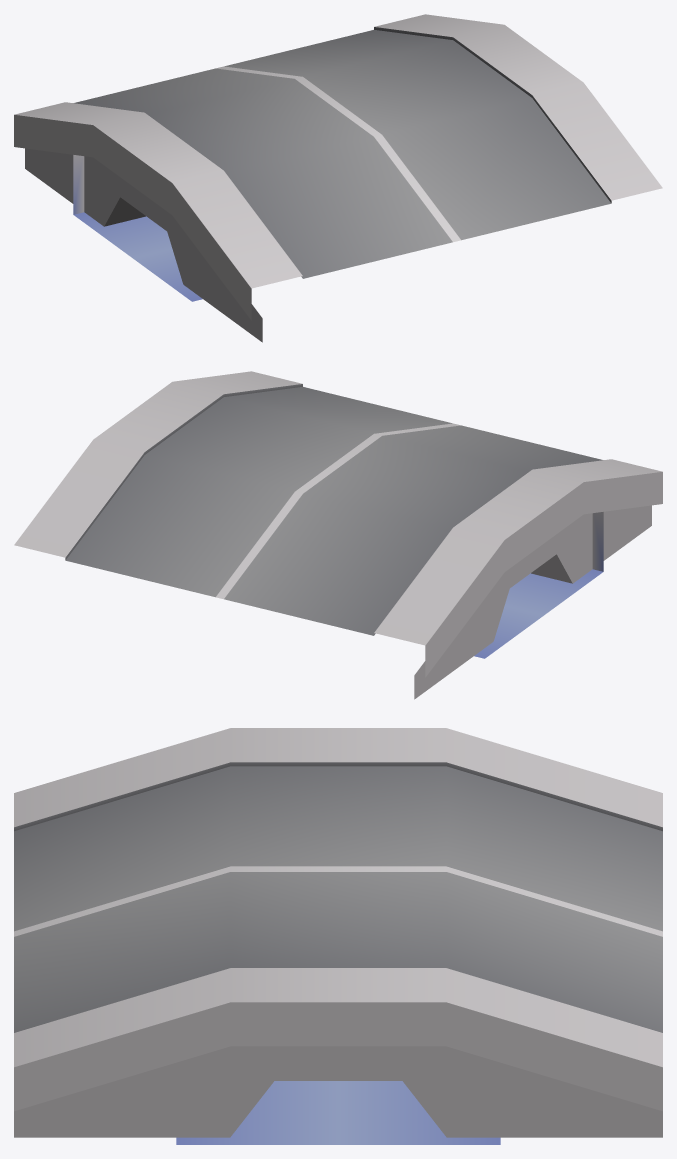
File: bridge_00.glb
3 renders of one model, top to bottom at view 1: azimuth 30°, elevation 25°; view 2: azimuth 150°, elevation 25°; view 3: azimuth 270°, elevation 25°, orthographic. The views are drawn at different scales.
Parts seen in each view (by area): view 1: bridge_00; view 2: bridge_00; view 3: bridge_00.
Boxes of the visible parts, x1=… form: bridge_00: x1=14, y1=14, x2=662, y2=342; bridge_00: x1=14, y1=371, x2=662, y2=699; bridge_00: x1=14, y1=728, x2=662, y2=1144.
Size of the model in its own units: 2 by 0.4844 by 2.
